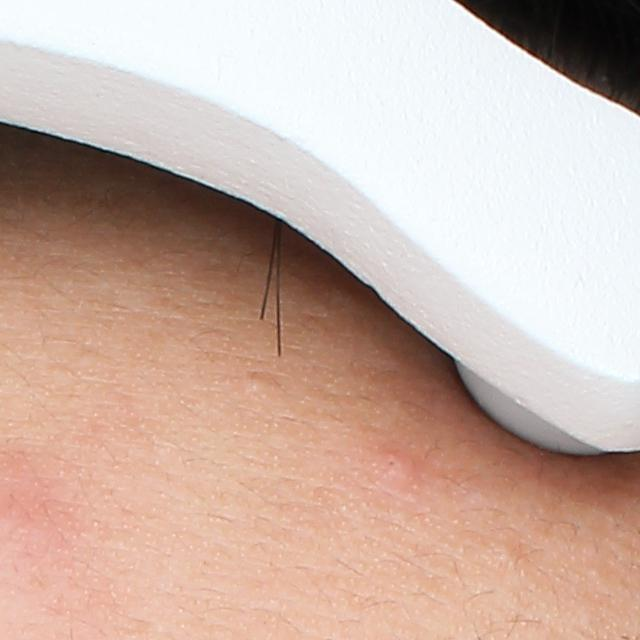comedo: (241, 371, 275, 402), (492, 539, 529, 567)
papule: (378, 448, 418, 484)
